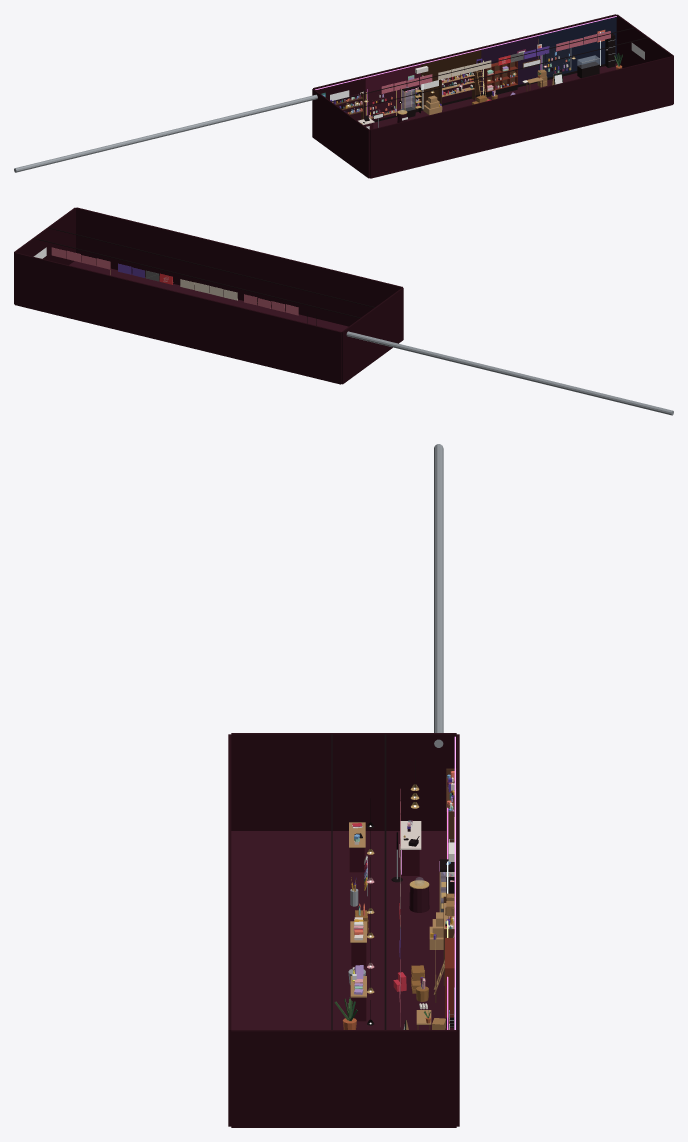
Rendered from store.glb.
3 views of the same model, one above another, from view 1: azimuth 30°, elevation 25°; view 2: azimuth 150°, elevation 25°; view 3: azimuth 270°, elevation 25° (orthographic). The views are drawn at different scales.
Visible parts, largest first — view 1: wall_front, wall_left, wall_paint_04, duct, wall_right, wall_back, wall_paint_03, wall_paint_02, wall_paint_01, floor, pegboard, slatwall (+9 smaller); view 2: wall_back, wall_front, wall_left, duct, floor, wall_right, track_rail_01, track_rail_02; view 3: floor, wall_right, wall_left, duct, wall_back, wall_front.
Part boxes in pixels (<box>): wall_front: <box>370,56,673,178</box>; wall_left: <box>312,88,369,178</box>; wall_paint_04: <box>539,17,616,77</box>; duct: <box>14,94,317,172</box>; wall_right: <box>616,14,673,103</box>; wall_back: <box>313,14,616,118</box>; wall_paint_03: <box>481,35,538,93</box>; wall_paint_02: <box>421,50,481,108</box>; wall_paint_01: <box>365,64,420,114</box>; floor: <box>373,63,622,128</box>; pegboard: <box>367,87,395,120</box>; slatwall: <box>542,42,570,74</box>; wall_back: <box>14,252,341,384</box>; wall_front: <box>76,207,402,326</box>; wall_left: <box>341,287,403,384</box>; duct: <box>346,331,673,415</box>; floor: <box>69,261,348,331</box>; wall_right: <box>14,207,75,303</box>; track_rail_01: <box>34,238,360,318</box>; track_rail_02: <box>49,227,374,307</box>; floor: <box>231,831,453,1029</box>; wall_right: <box>231,1030,456,1127</box>; wall_left: <box>231,733,456,830</box>; duct: <box>434,444,443,747</box>; wall_back: <box>456,734,459,1126</box>; wall_front: <box>228,734,231,1126</box>.
Bounding box in the file's own units: 47.3 × 3.62 × 7.8.
Materials: 51 (3 with a texture image).
